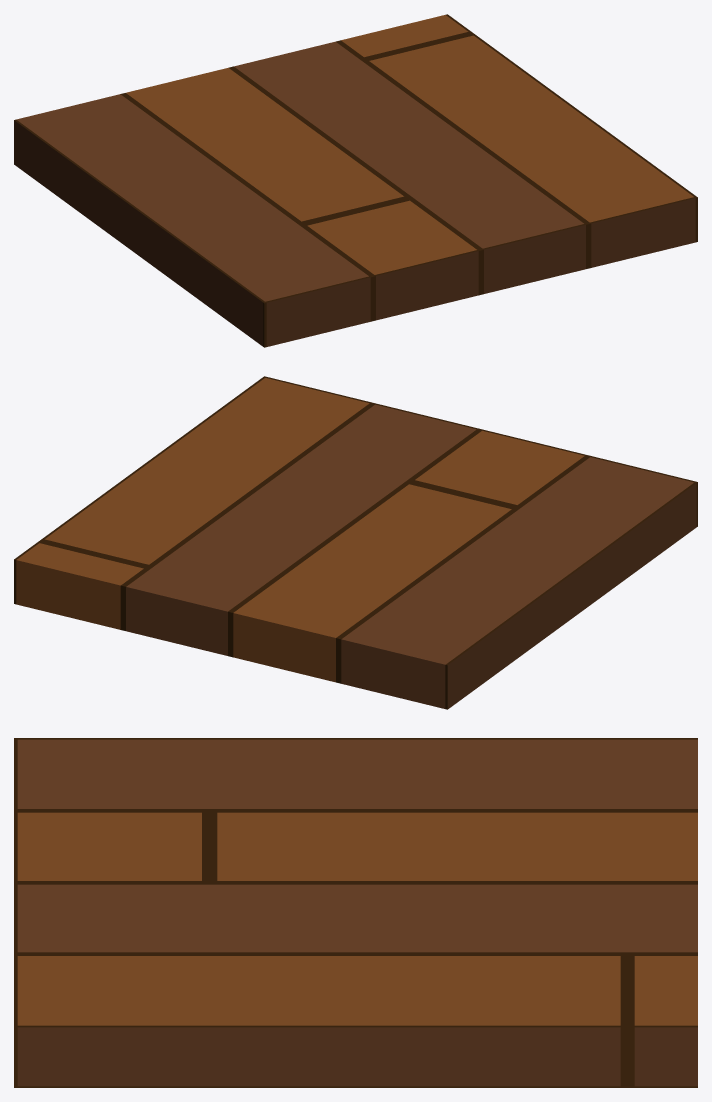
File: Environment_WoodBoard_3.fbx
The picture shows the model from 3 angles, top to bottom: view 1: azimuth 30°, elevation 25°; view 2: azimuth 150°, elevation 25°; view 3: azimuth 270°, elevation 25°; orthographic projection. The views are drawn at different scales.
Parts seen in each view (by area): view 1: polySurface4; view 2: polySurface4; view 3: polySurface4.
Part boxes in pixels (x1=…): polySurface4: x1=14, y1=14, x2=697, y2=347; polySurface4: x1=14, y1=376, x2=697, y2=709; polySurface4: x1=14, y1=738, x2=697, y2=1087.
Bounding box in the file's own units: 200 × 19.58 × 200.
